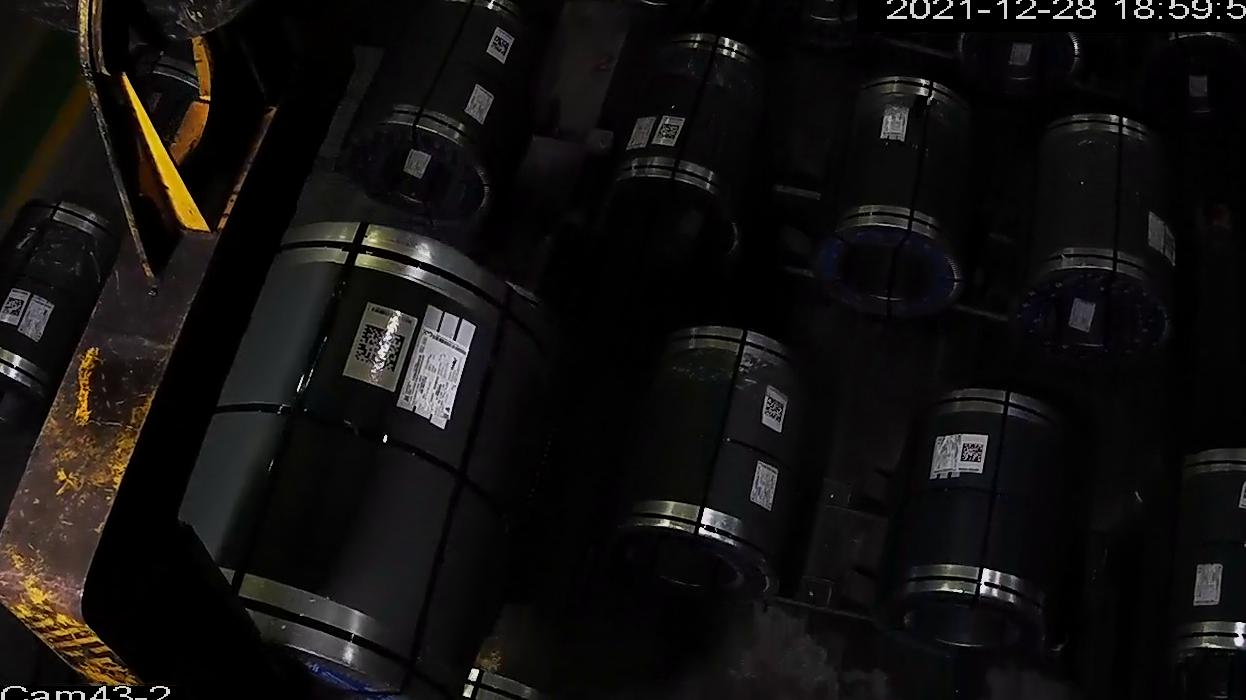data matrix: (351, 321, 410, 377), (762, 395, 788, 426), (959, 440, 988, 466), (1, 295, 29, 320), (656, 123, 682, 143), (490, 35, 511, 59), (1240, 479, 1246, 505)
